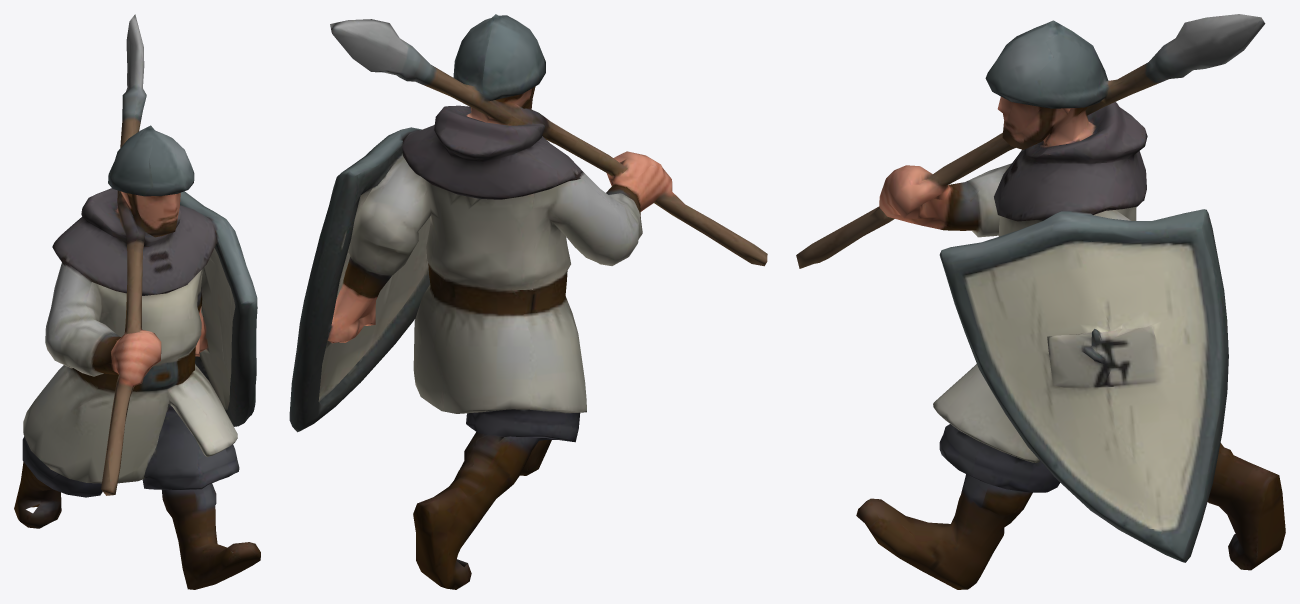
Rendered from free_spears_march.glb.
3 renders of one model, left to right at view 1: azimuth 30°, elevation 25°; view 2: azimuth 150°, elevation 25°; view 3: azimuth 270°, elevation 25°, orthographic. The views are drawn at different scales.
Parts seen in each view (by area): view 1: world; view 2: world; view 3: world.
Boxes of the visible parts, x1,y1,x2,y2 form: world: (14,14,260,589); world: (289,14,767,589); world: (796,14,1285,589).
Size of the model in its own units: 0.6048 by 0.9855 by 0.7222.
Materials: 1 (1 with a texture image).
